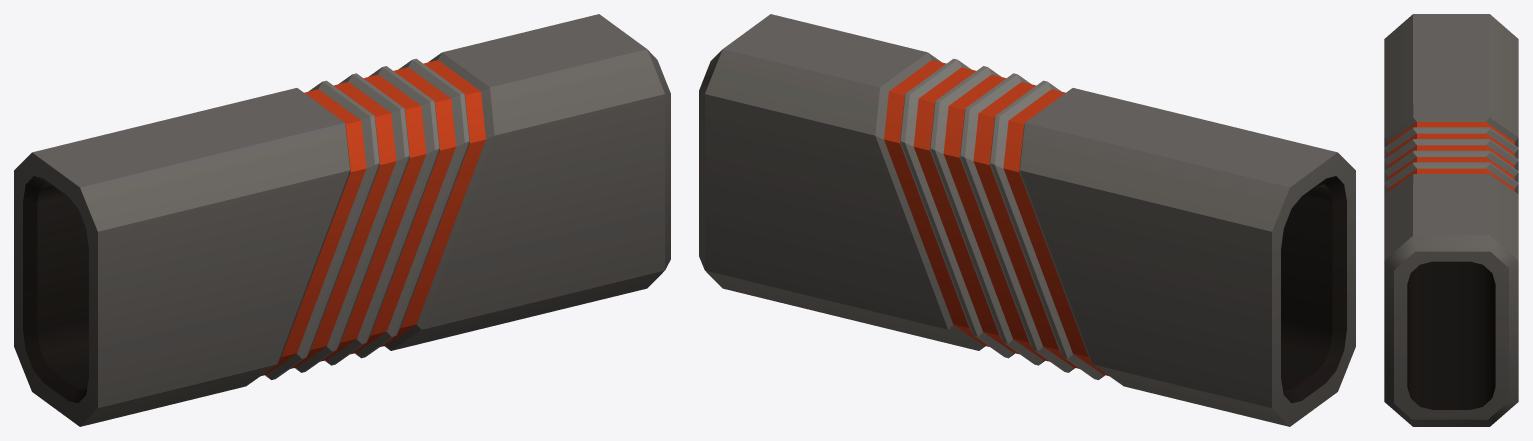
Rendered from Muzzle_Caliber3_02.fbx.
The picture shows the model from 3 angles, left to right: view 1: azimuth 30°, elevation 25°; view 2: azimuth 150°, elevation 25°; view 3: azimuth 270°, elevation 25°; orthographic projection. The views are drawn at different scales.
Parts seen in each view (by area): view 1: Muzzle_Caliber3_02; view 2: Muzzle_Caliber3_02; view 3: Muzzle_Caliber3_02.
Part boxes in pixels (x1=…): Muzzle_Caliber3_02: x1=14, y1=14, x2=670, y2=426; Muzzle_Caliber3_02: x1=699, y1=14, x2=1355, y2=426; Muzzle_Caliber3_02: x1=1384, y1=14, x2=1518, y2=426.
Bounding box in the file's own units: 24.25 × 9.58 × 6.08.
